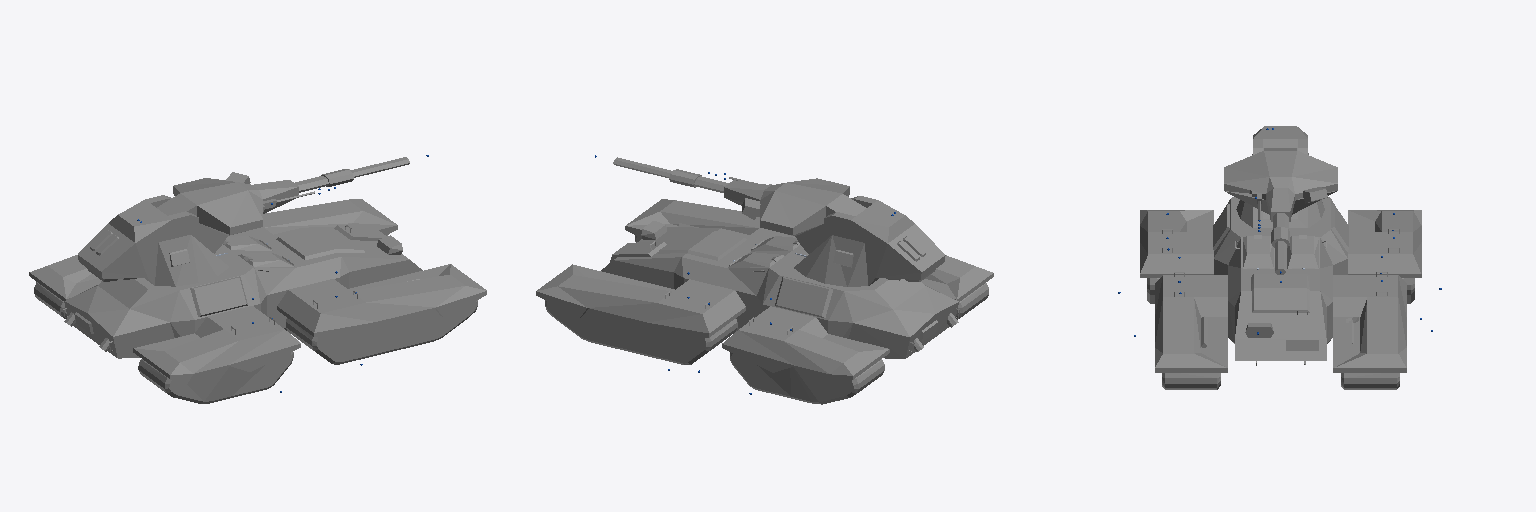
The model's file is Scorpion.obj.
The picture shows the model from 3 angles: view 1: azimuth 30°, elevation 25°; view 2: azimuth 150°, elevation 25°; view 3: azimuth 270°, elevation 25°; orthographic projection.
Parts seen in each view (by area): view 1: tank, tread; view 2: tank, tread; view 3: tank, tread.
Part boxes in pixels (x1,y1,x2,y2): tank: (29,157,486,401); tread: (34,235,477,403); tank: (536,157,993,401); tread: (545,235,988,404); tank: (1140,126,1421,372); tread: (1147,278,1414,389).
Bounding box in the file's own units: 335 × 135 × 271.